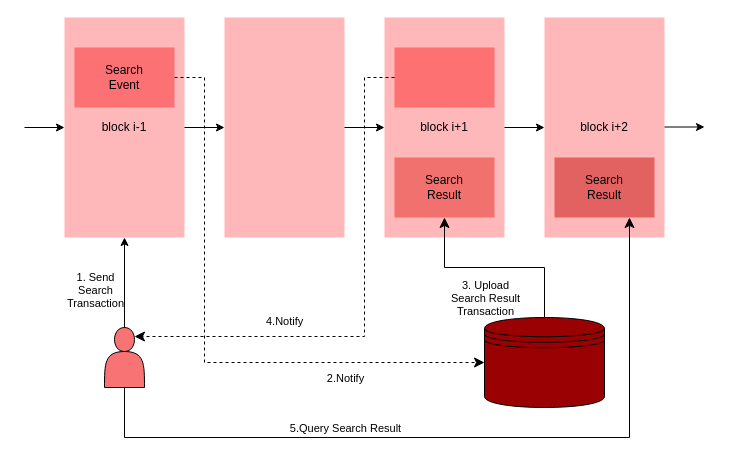
Image size: 730x465. Some labels were removed from this diagram. Here are the shapes that lost their labels. From the top down, the centre of each, then its label:
the point at 444,77: Search Success Event
the point at 284,127: block i
the point at 544,362: Offchain Database
